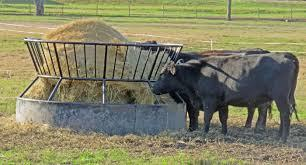cow: (151, 53, 300, 143)
